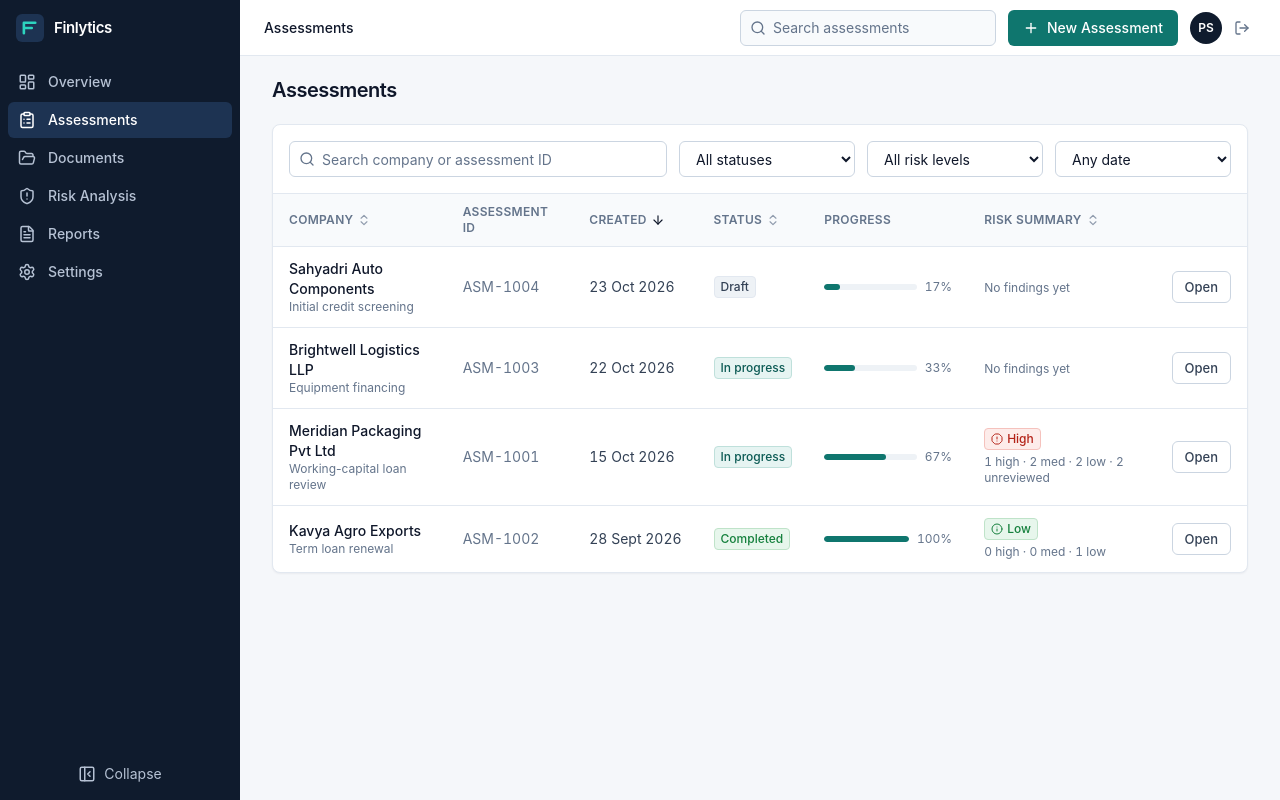
Test case: assessments › filters by search and shows an empty state
Expected: the link "Kavya Agro Exports" is shown, [289,522,421,539]
Type "zzzz" into the field named "Search by company" at (478, 159), box [289,141,667,177]
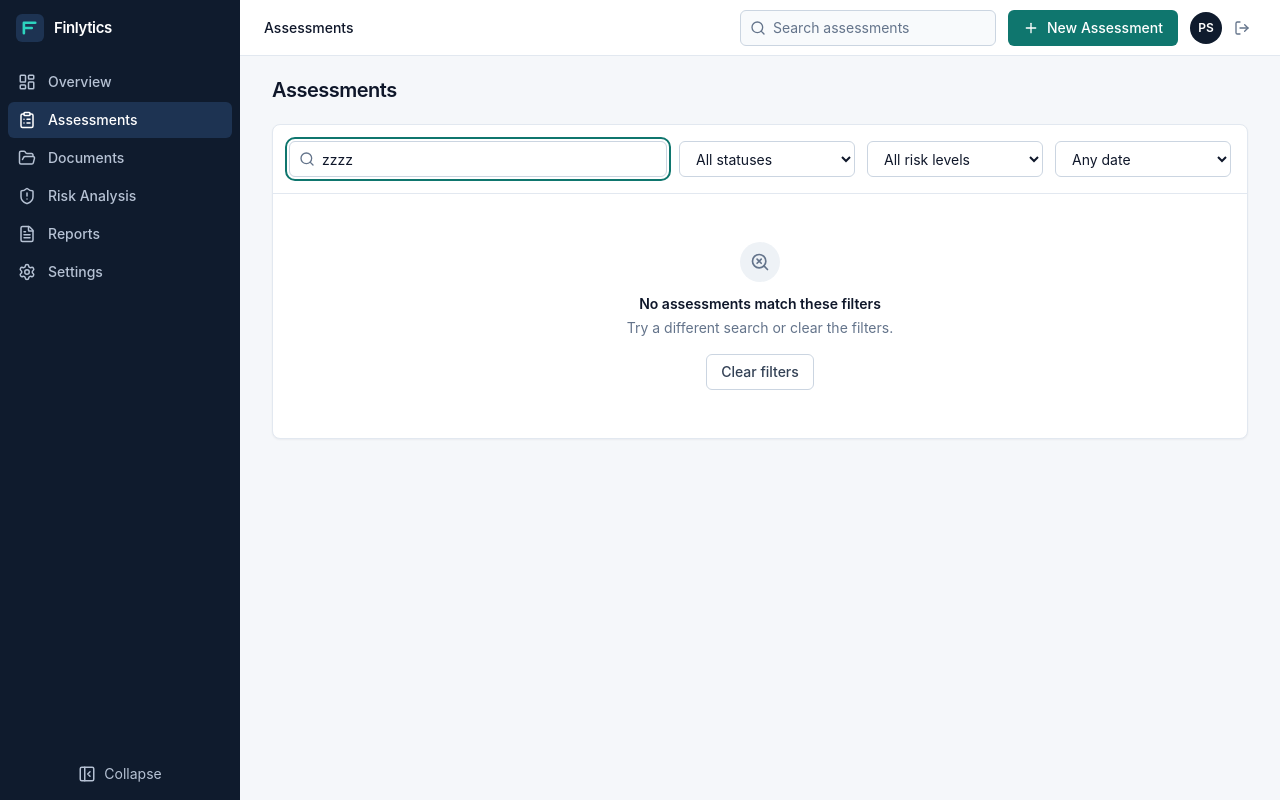
Expected: the heading "No assessments match these filters" is shown, [639,294,881,314]
